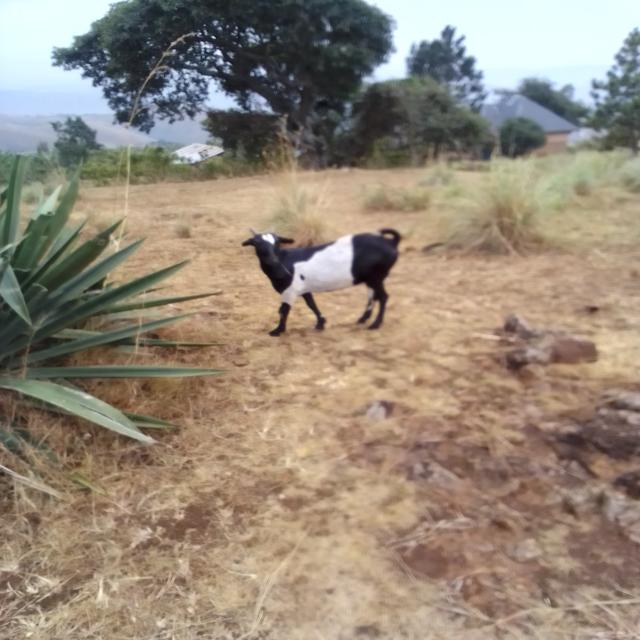goat: (203, 203, 440, 373)
